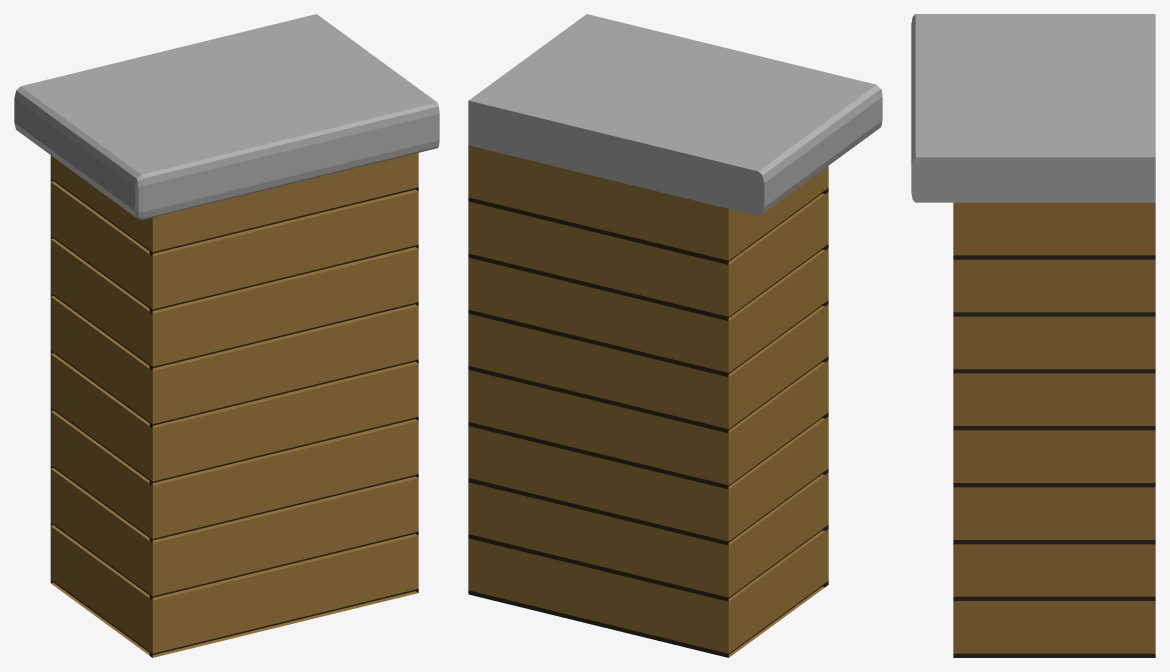
Rendered from BarCorner.fbx.
3 views of the same model, side by side, from view 1: azimuth 30°, elevation 25°; view 2: azimuth 150°, elevation 25°; view 3: azimuth 270°, elevation 25° (orthographic). The views are drawn at different scales.
Visible parts, largest first — view 1: Bar Corner; view 2: Bar Corner; view 3: Bar Corner.
Part boxes in pixels (x1,y1,x2,y2): Bar Corner: (14, 14, 439, 657); Bar Corner: (468, 14, 882, 657); Bar Corner: (911, 14, 1155, 657).
Bounding box in the file's own units: 229 × 365 × 161.
